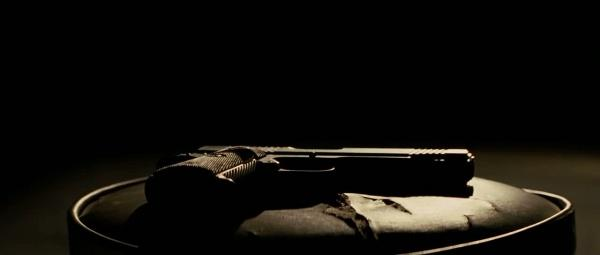Gun: (147, 144, 477, 218)
